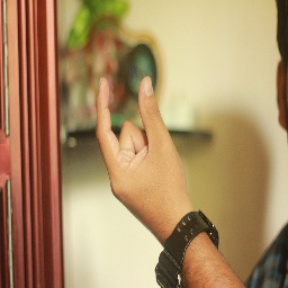U: (88, 71, 180, 207)
